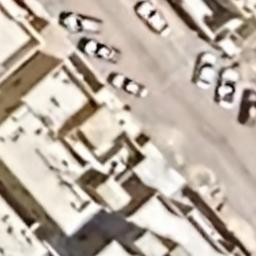SUV: (198, 51, 214, 90)
pickup: (60, 12, 103, 36), (220, 67, 236, 106)
sedan: (134, 0, 172, 36), (82, 38, 122, 64), (109, 72, 148, 98)
unknown: (240, 88, 256, 127)
